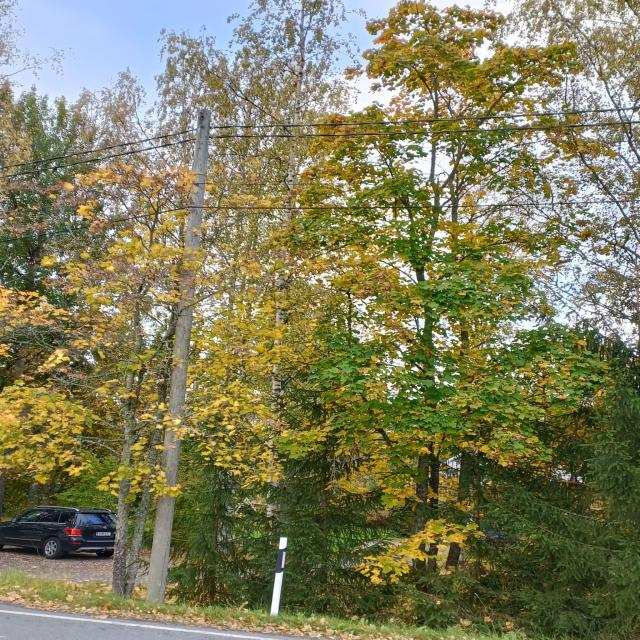Tree-detection: (272, 1, 618, 603), (0, 142, 282, 594)
